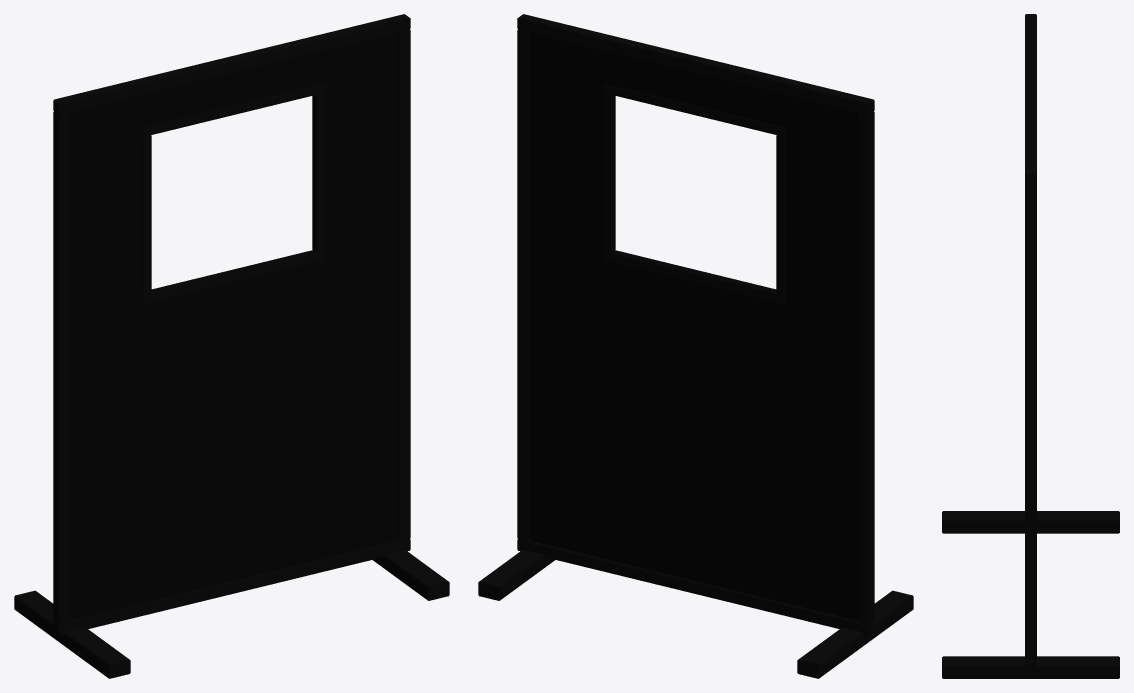
File: obj_wall_black_window.glb
3 renders of one model, left to right at view 1: azimuth 30°, elevation 25°; view 2: azimuth 150°, elevation 25°; view 3: azimuth 270°, elevation 25°, orthographic. The views are drawn at different scales.
Parts seen in each view (by area): view 1: wall_black_window_body; view 2: wall_black_window_body; view 3: wall_black_window_body.
Part boxes in pixels (bbox=[...]): wall_black_window_body: bbox=[14, 14, 449, 678]; wall_black_window_body: bbox=[478, 14, 913, 678]; wall_black_window_body: bbox=[942, 14, 1119, 678].
Size of the model in its own units: 1.28 by 1.89 by 0.6.
Materials: 1 (1 with a texture image).
